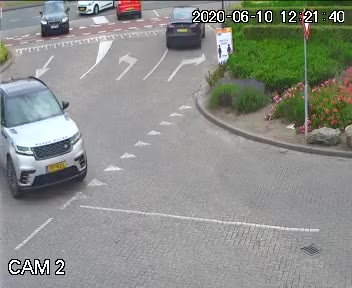car: (0, 72, 92, 210), (161, 7, 209, 53), (35, 0, 76, 40), (110, 0, 143, 20), (78, 0, 110, 16)
